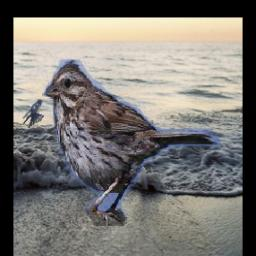Sparrow: (43, 55, 221, 226)
Swallow: (22, 99, 44, 128)
